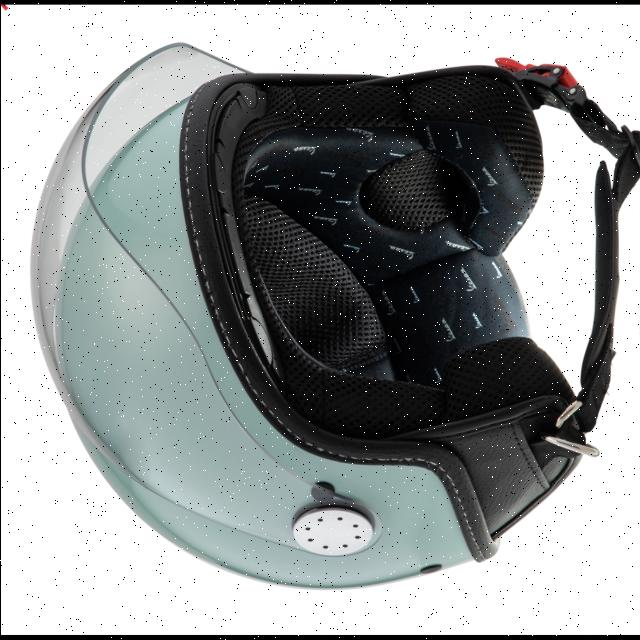Helmet: (31, 44, 597, 588)
